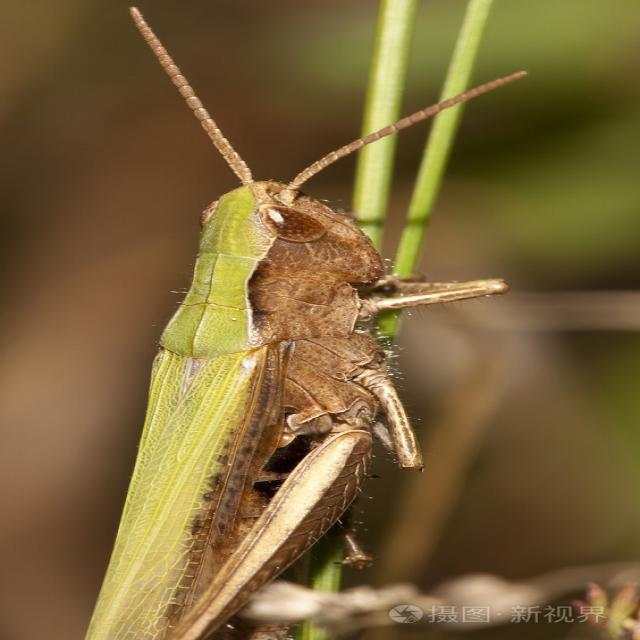ZhaMeng: (79, 110, 408, 624)
